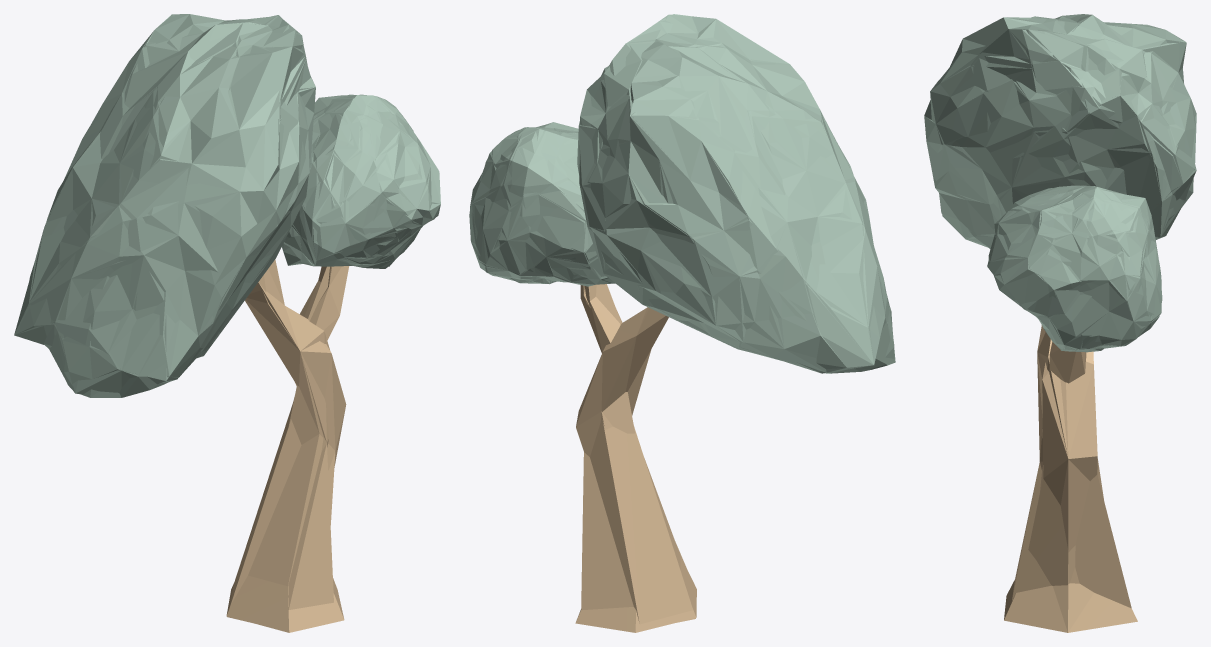
Rendered from Tree_02.fbx.
3 renders of one model, left to right at view 1: azimuth 30°, elevation 25°; view 2: azimuth 150°, elevation 25°; view 3: azimuth 270°, elevation 25°, orthographic. The views are drawn at different scales.
Visible parts, largest first — view 1: Tree_02_0 L, Tree_02_1 L; view 2: Tree_02_0 L, Tree_02_1 L; view 3: Tree_02_0 L, Tree_02_1 L.
Boxes of the visible parts, x1,y1,x2,y2 form: Tree_02_0 L: [14, 14, 440, 632]; Tree_02_1 L: [14, 14, 440, 622]; Tree_02_0 L: [469, 14, 894, 632]; Tree_02_1 L: [469, 14, 895, 624]; Tree_02_0 L: [924, 14, 1196, 632]; Tree_02_1 L: [926, 14, 1196, 632].
Bounding box in the file's own units: 1318 × 1864 × 800.
